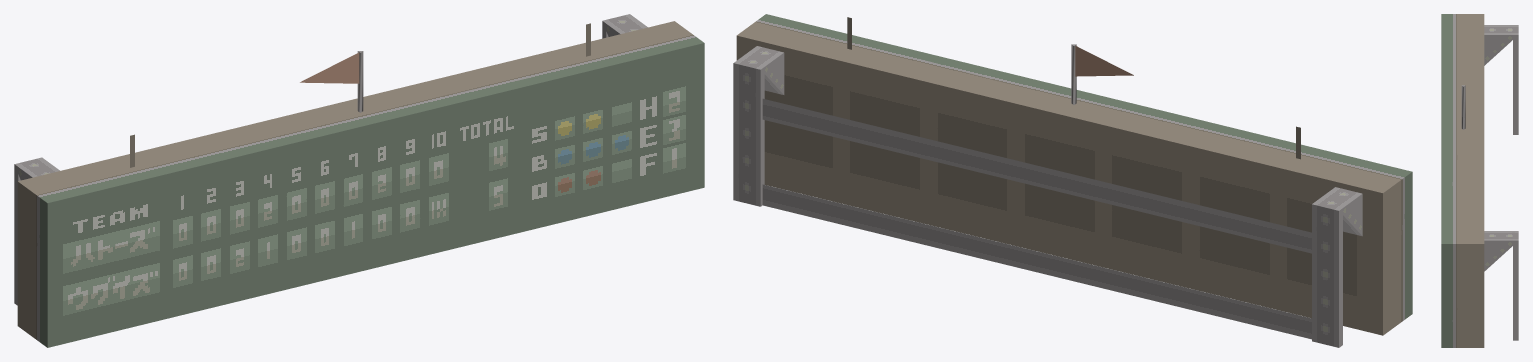
The model's file is 043b_Scoreboard.glb.
3 views of the same model, side by side, from view 1: azimuth 30°, elevation 25°; view 2: azimuth 150°, elevation 25°; view 3: azimuth 270°, elevation 25° (orthographic). The views are drawn at different scales.
Parts seen in each view (by area): view 1: part_0; view 2: part_0; view 3: part_0.
Boxes of the visible parts, x1=… form: part_0: x1=14, y1=14, x2=704, y2=347; part_0: x1=733, y1=14, x2=1412, y2=347; part_0: x1=1441, y1=14, x2=1518, y2=347.
Bounding box in the file's own units: 8.55 × 2.55 × 1.22.
Materials: 1 (1 with a texture image).
